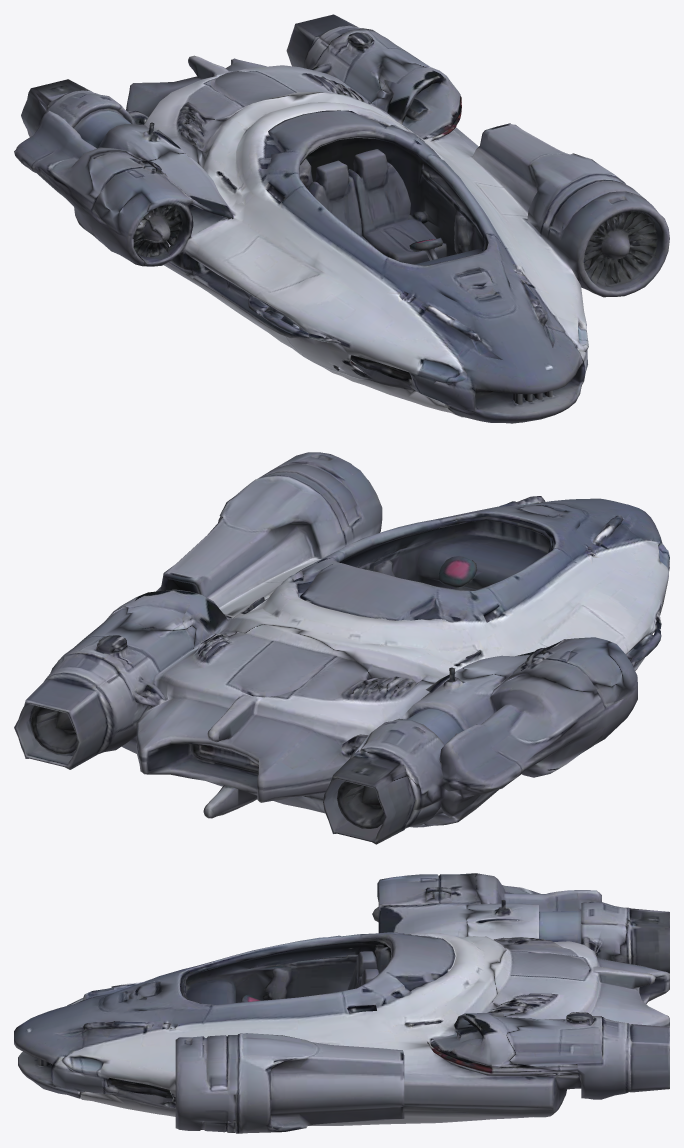
Rendered from landspeeder.glb.
3 renders of one model, top to bottom at view 1: azimuth 30°, elevation 25°; view 2: azimuth 150°, elevation 25°; view 3: azimuth 270°, elevation 25°, orthographic. The views are drawn at different scales.
Parts seen in each view (by area): view 1: tripo_node_bea04fe5-00d5-4fe5-8aef-d74cbd7f1cb4; view 2: tripo_node_bea04fe5-00d5-4fe5-8aef-d74cbd7f1cb4; view 3: tripo_node_bea04fe5-00d5-4fe5-8aef-d74cbd7f1cb4.
Boxes of the visible parts, x1,y1,x2,y2 form: tripo_node_bea04fe5-00d5-4fe5-8aef-d74cbd7f1cb4: (14, 14, 669, 423); tripo_node_bea04fe5-00d5-4fe5-8aef-d74cbd7f1cb4: (14, 452, 669, 844); tripo_node_bea04fe5-00d5-4fe5-8aef-d74cbd7f1cb4: (14, 873, 669, 1133).
Bounding box in the file's own units: 0.6674 × 0.2352 × 0.9772.
1 material, 1 textured.
